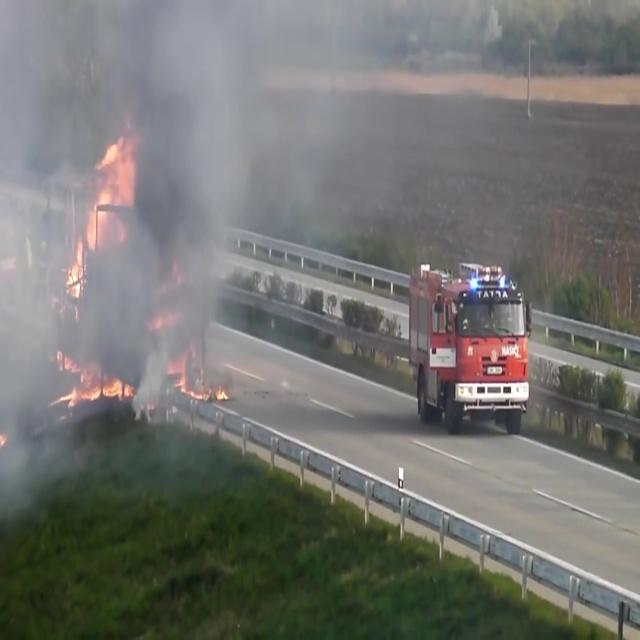Fire: (64, 128, 140, 302), (62, 363, 136, 410)
Smoke: (0, 0, 244, 436)
